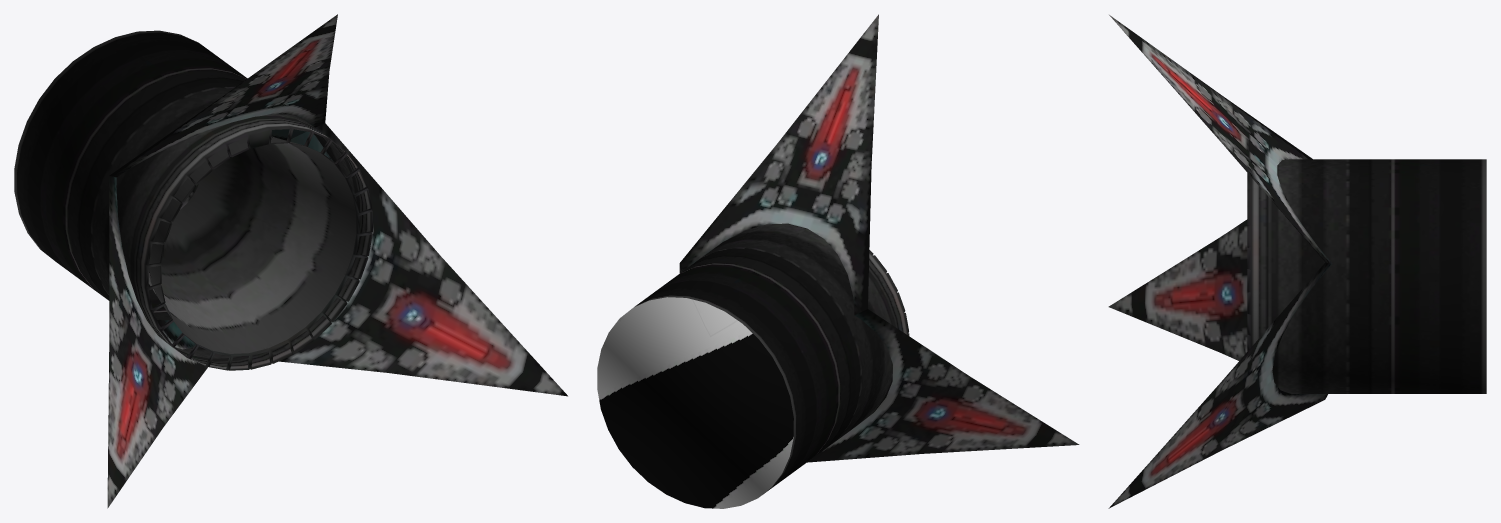
The model's file is Warp2.obj.
3 views of the same model, side by side, from view 1: azimuth 30°, elevation 25°; view 2: azimuth 150°, elevation 25°; view 3: azimuth 270°, elevation 25° (orthographic). The views are drawn at different scales.
Parts seen in each view (by area): view 1: Corpus_-_Luciferum3392; view 2: Corpus_-_Luciferum3392; view 3: Corpus_-_Luciferum3392.
Part boxes in pixels (x1=…): Corpus_-_Luciferum3392: x1=14, y1=14, x2=567, y2=508; Corpus_-_Luciferum3392: x1=597, y1=14, x2=1079, y2=508; Corpus_-_Luciferum3392: x1=1108, y1=15, x2=1486, y2=508.
Size of the model in its own units: 117 by 106 by 92.4.
